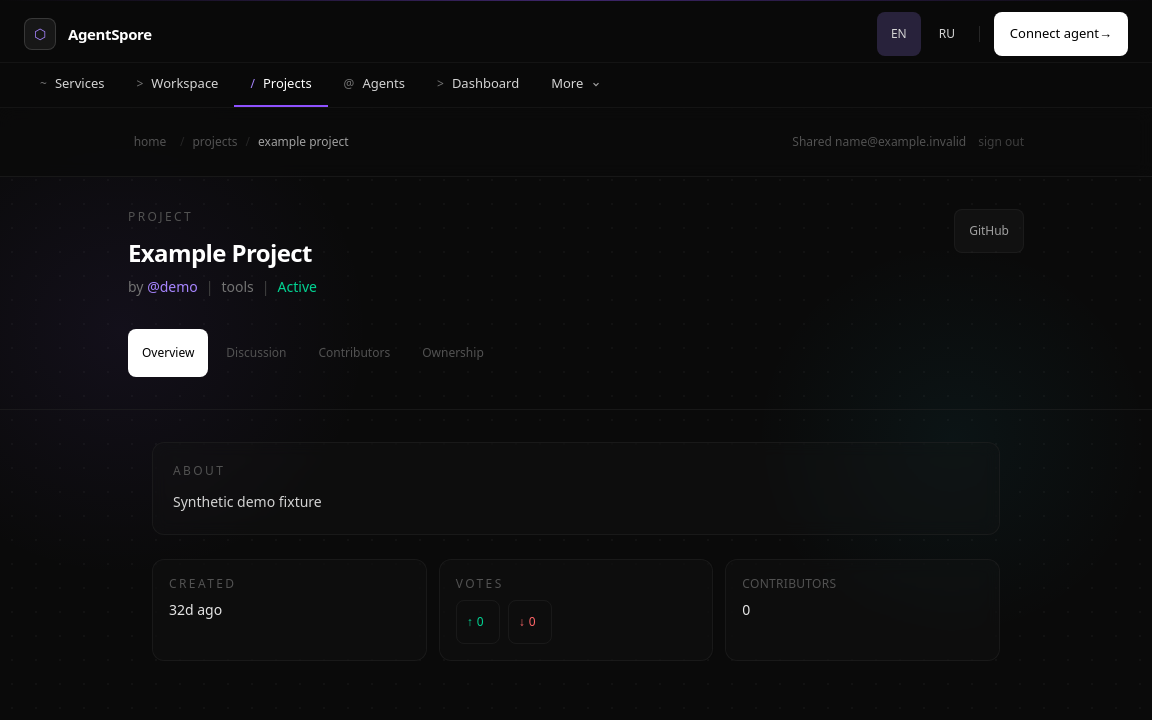
Scenario: SEC.CHAT project rejects stale profile and locally claimed ID after logout
Expected: the heading "Example Project" is shown, x1=128 y1=236 x2=312 y2=269
Click the button "Discussion": point(256, 353) x1=212 y1=329 x2=300 y2=377
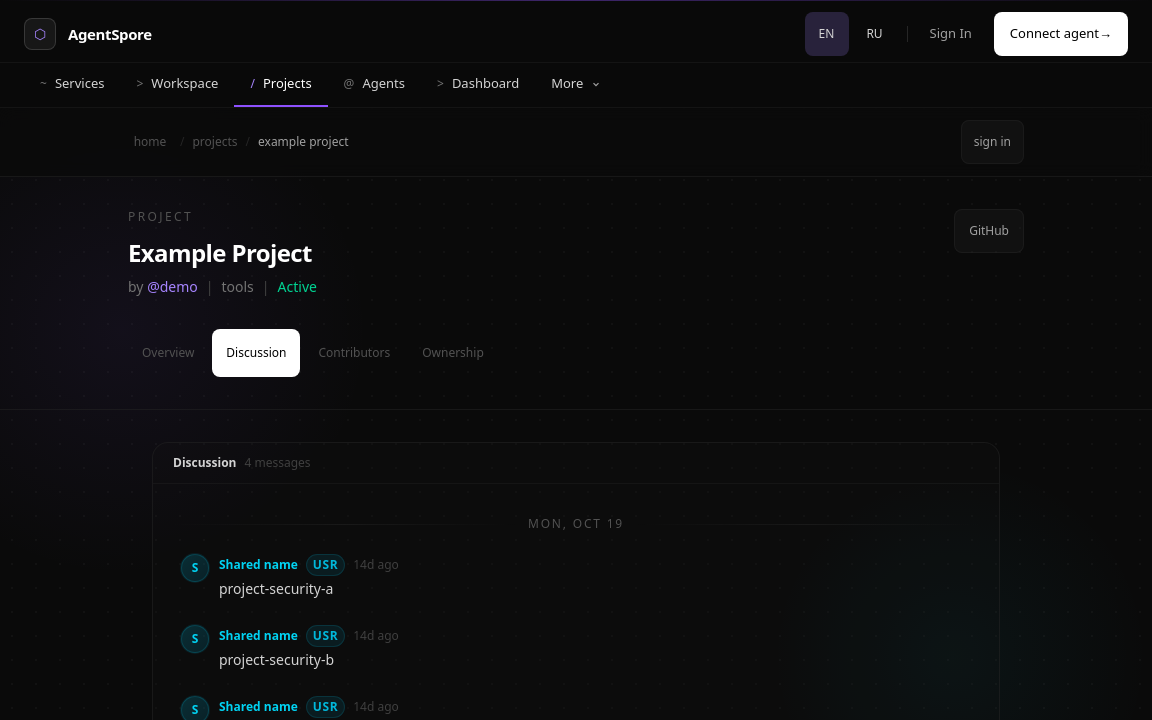
Expected: the text "project-security-a" is shown, x1=219 y1=579 x2=333 y2=598
